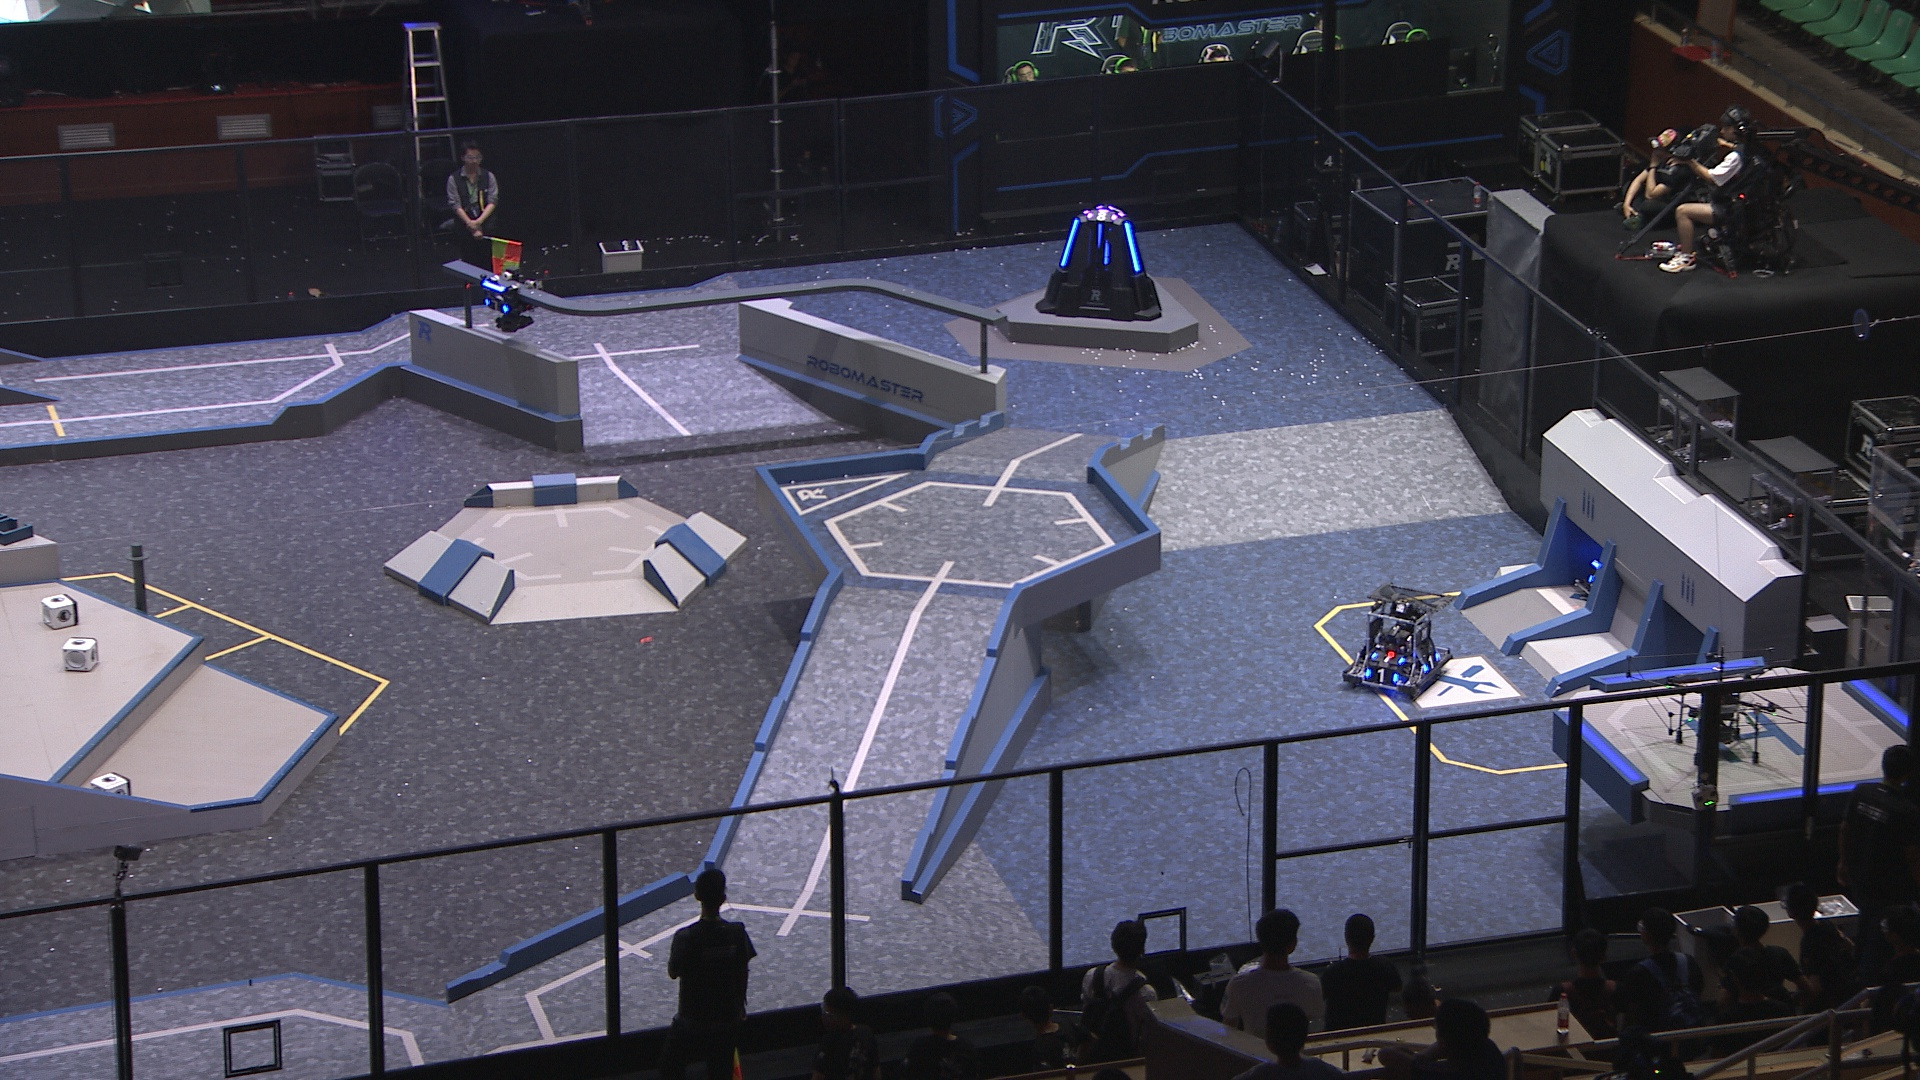armor: (1122, 220, 1141, 272), (1059, 220, 1077, 268), (1370, 647, 1404, 669), (1364, 665, 1396, 684), (483, 297, 506, 313), (1425, 651, 1439, 675), (1095, 220, 1102, 248)
base: (1035, 200, 1163, 323)
car: (1340, 579, 1455, 702), (1569, 549, 1640, 626)
ignore: (1087, 210, 1117, 224)
watcher: (481, 270, 547, 334)
